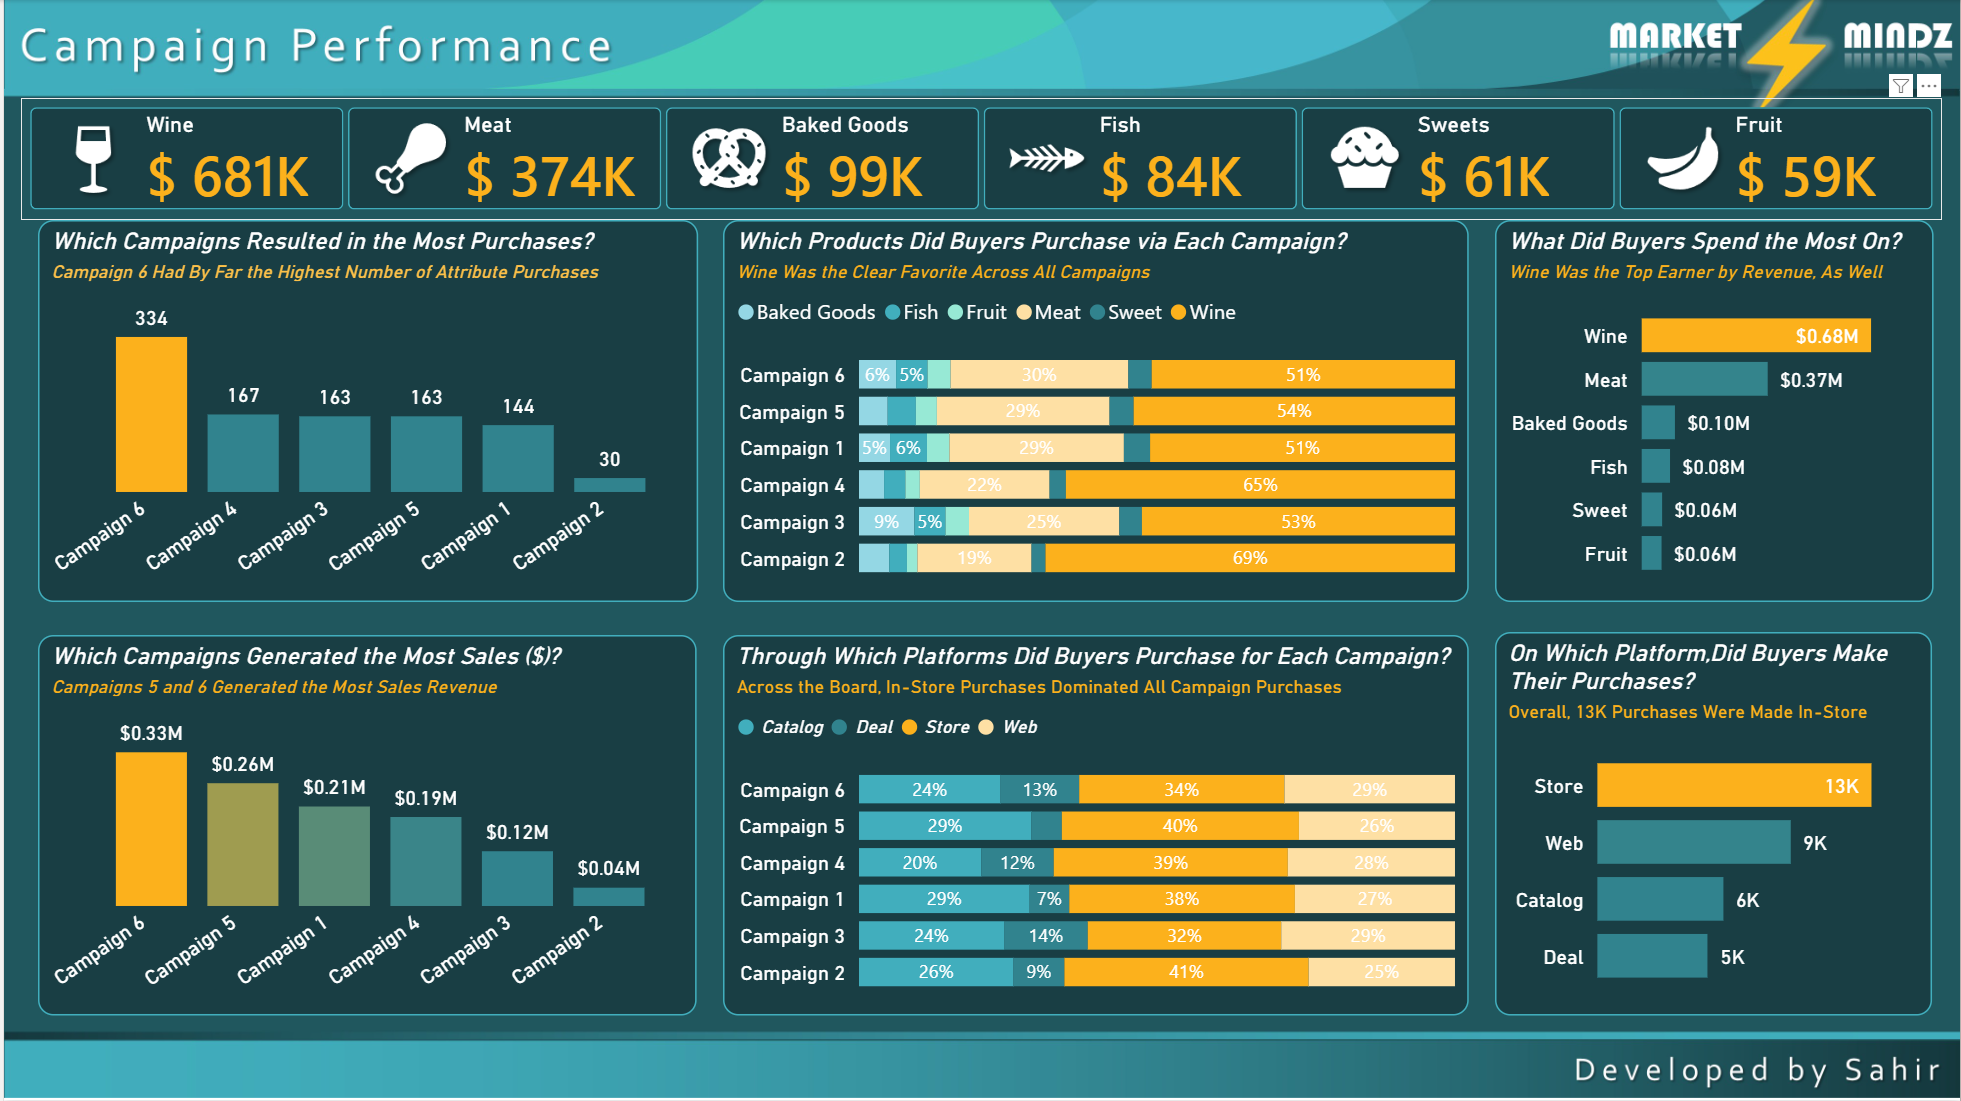

This screenshot's page, from the dashboard's own definition file:
{"tool":"powerbi","page":{"name":"Campaign Performance","canvas":[1280,720],"ordinal":0},"visuals":[{"type":"clusteredColumnChart","title":"Which Campaigns Resulted in the Most Purchases?","fields":{"Y":["Sum(Capaign.Accepted_Ind)"],"Category":["Capaign.Capaign"]},"box":[22.2,144,431.9,250],"z":0},{"type":"clusteredColumnChart","title":"Which Campaigns Generated the Most Sales ($)?","fields":{"Y":["Sum(products.Total Sales)"],"Category":["Capaign.Capaign"]},"box":[22.2,415.4,431.2,249.3],"z":1000},{"type":"hundredPercentStackedBarChart","title":"Which Products Did Buyers Purchase via Each Campaign?","fields":{"Category":["Capaign.Capaign"],"Y":["Sum(products.Total Sales)"],"Series":["products.Product"]},"box":[470.5,144,488.2,250],"z":2000},{"type":"clusteredBarChart","title":"What Did Buyers Spend the Most On? ","fields":{"Y":["Sum(products.Total Sales)"],"Category":["products.Product"]},"box":[975.7,144,286.6,250],"z":3000},{"type":"hundredPercentStackedBarChart","title":"Through Which Platforms Did Buyers Purchase for Each Campaign?","fields":{"Category":["Capaign.Capaign"],"Y":["Sum(platform.Qty)"],"Series":["platform.Platform"]},"box":[470.5,415.4,488.2,249.3],"z":4000},{"type":"clusteredBarChart","title":"On Which Platform,Did Buyers Make Their Purchases?","fields":{"Y":["Sum(platform.Qty)"],"Category":["platform.Platform"]},"box":[975.7,413.5,286,251.3],"z":5000},{"type":"cardVisual","fields":{"Data":["Sum(marketing_data.Amount_Wine_Products)","Sum(marketing_data.Amount_Meat_Products)","Sum(marketing_data.Amount_Baked_Products)","Sum(marketing_data.Amount_Fish_Products)","Sum(marketing_data.Amount_Sweet_Products)","Sum(marketing_data.Amount_Fruit_Products)"]},"box":[11.1,64.1,1257.1,79.8],"z":7000}]}

Visuals, with their boxes in screenshot pixels (x1, y1, x2, y2), scaled from the page's 1280x720 canvas onto the 1961x1101 screenshot:
"Which Campaigns Resulted in the Most Purchases?" clusteredColumnChart: {"x1": 34, "y1": 220, "x2": 696, "y2": 602}
"Which Campaigns Generated the Most Sales ($)?" clusteredColumnChart: {"x1": 34, "y1": 635, "x2": 695, "y2": 1016}
"Which Products Did Buyers Purchase via Each Campaign?" hundredPercentStackedBarChart: {"x1": 721, "y1": 220, "x2": 1469, "y2": 602}
"What Did Buyers Spend the Most On? " clusteredBarChart: {"x1": 1495, "y1": 220, "x2": 1934, "y2": 602}
"Through Which Platforms Did Buyers Purchase for Each Campaign?" hundredPercentStackedBarChart: {"x1": 721, "y1": 635, "x2": 1469, "y2": 1016}
"On Which Platform,Did Buyers Make Their Purchases?" clusteredBarChart: {"x1": 1495, "y1": 632, "x2": 1933, "y2": 1017}
cardVisual - Sum(marketing_data.Amount_Wine_Products) x Sum(marketing_data.Amount_Meat_Products): {"x1": 17, "y1": 98, "x2": 1943, "y2": 220}
